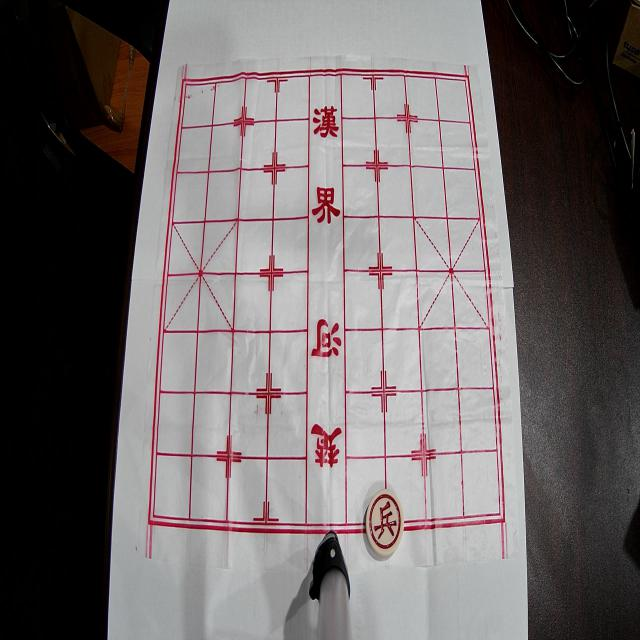red-soldier: (366, 489, 404, 557)
